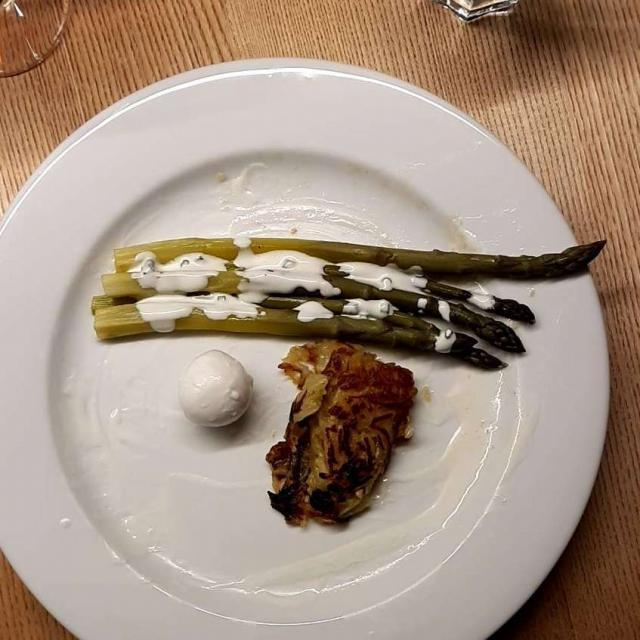asparagus: (118, 241, 558, 358)
cheese: (182, 349, 250, 425)
rosti: (271, 340, 411, 526)
yogurt: (132, 253, 481, 330)
